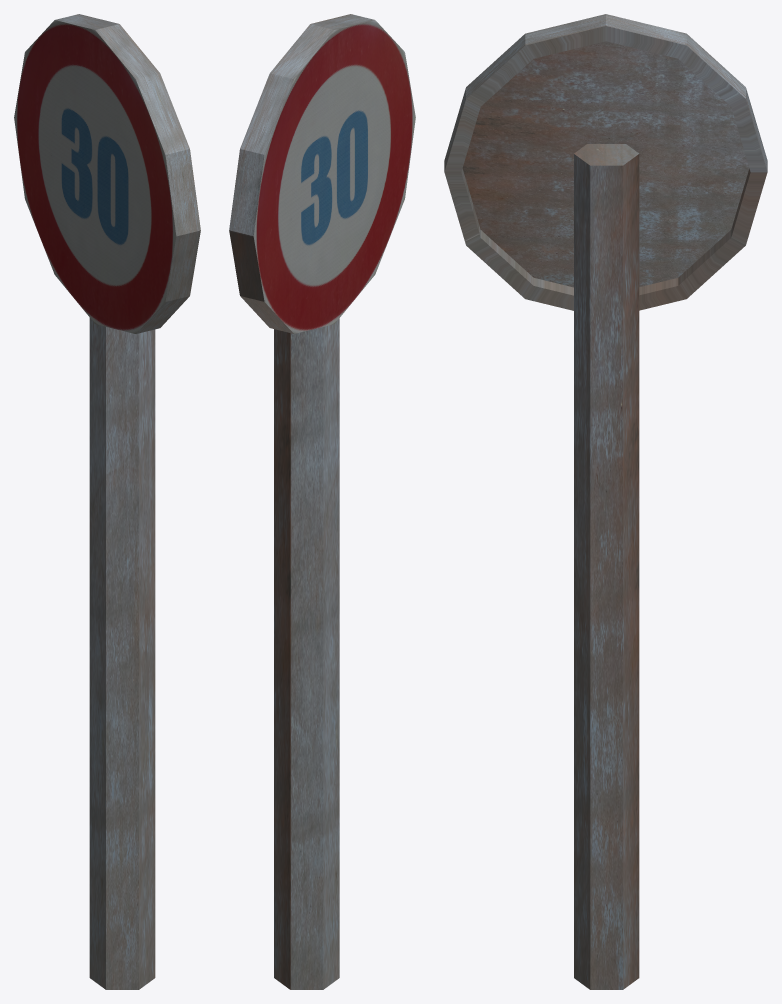
The model's file is panneau_limitations_30.fbx.
3 views of the same model, side by side, from view 1: azimuth 30°, elevation 25°; view 2: azimuth 150°, elevation 25°; view 3: azimuth 270°, elevation 25° (orthographic).
Parts seen in each view (by area): view 1: limitations_30.001; view 2: limitations_30.001; view 3: limitations_30.001.
Boxes of the visible parts, bbox=[...] form: limitations_30.001: bbox=[14, 14, 200, 989]; limitations_30.001: bbox=[229, 14, 415, 989]; limitations_30.001: bbox=[444, 14, 767, 989].
Size of the model in its own units: 1.21 by 21.11 by 6.5.
Materials: 2 (2 with a texture image).
